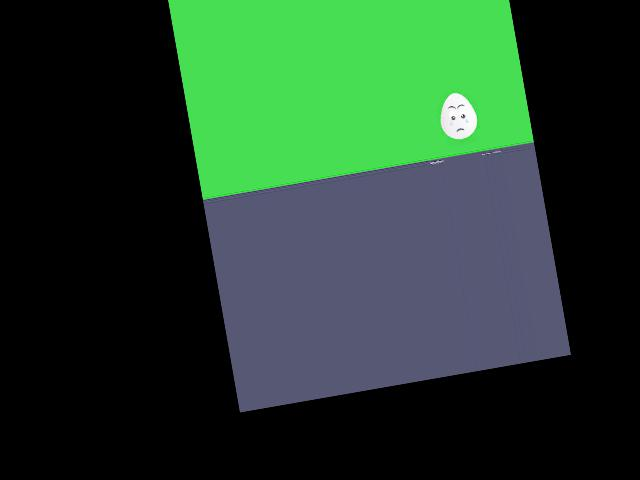egg: (436, 90, 480, 141)
